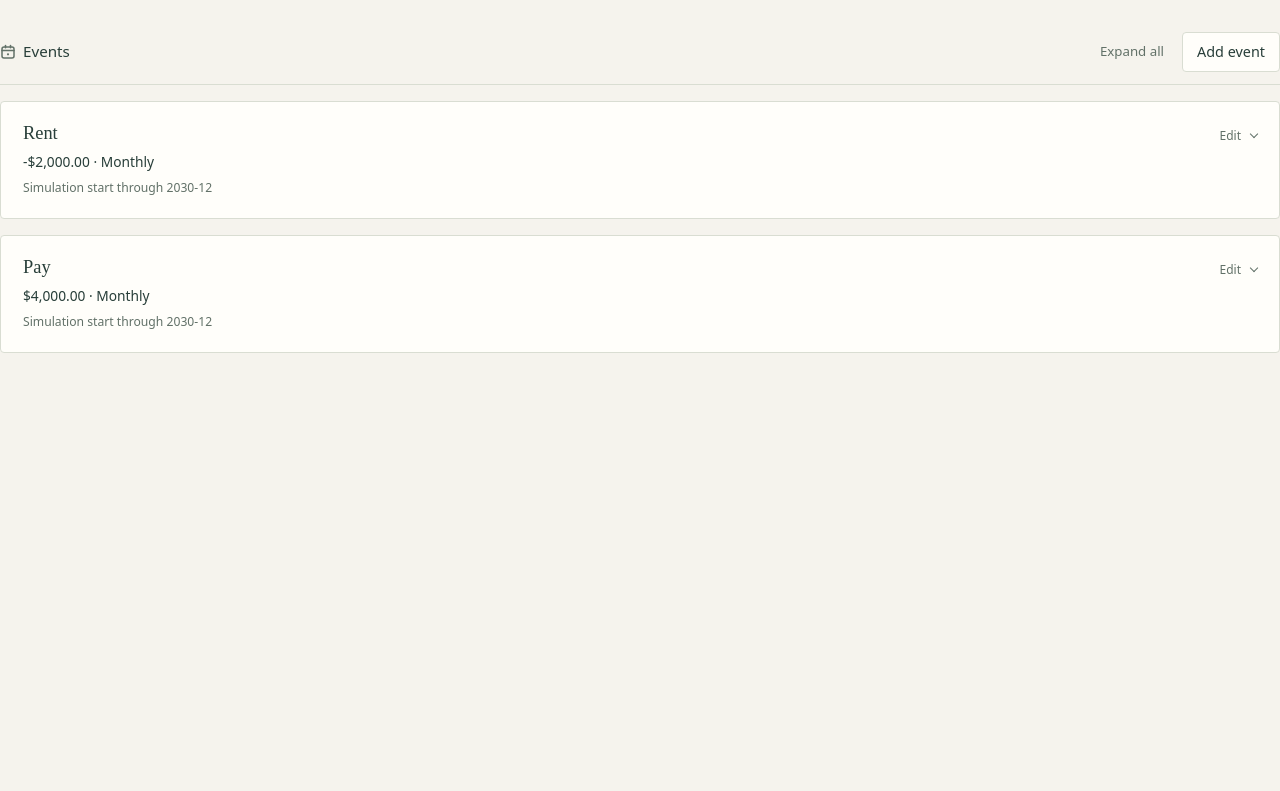
Test: summary-first editors › supports expanding and collapsing the whole list
The width and height of the screenshot is (1280, 791).
Click the button "Expand all" at (1132, 52), box [1090,36,1174,68]
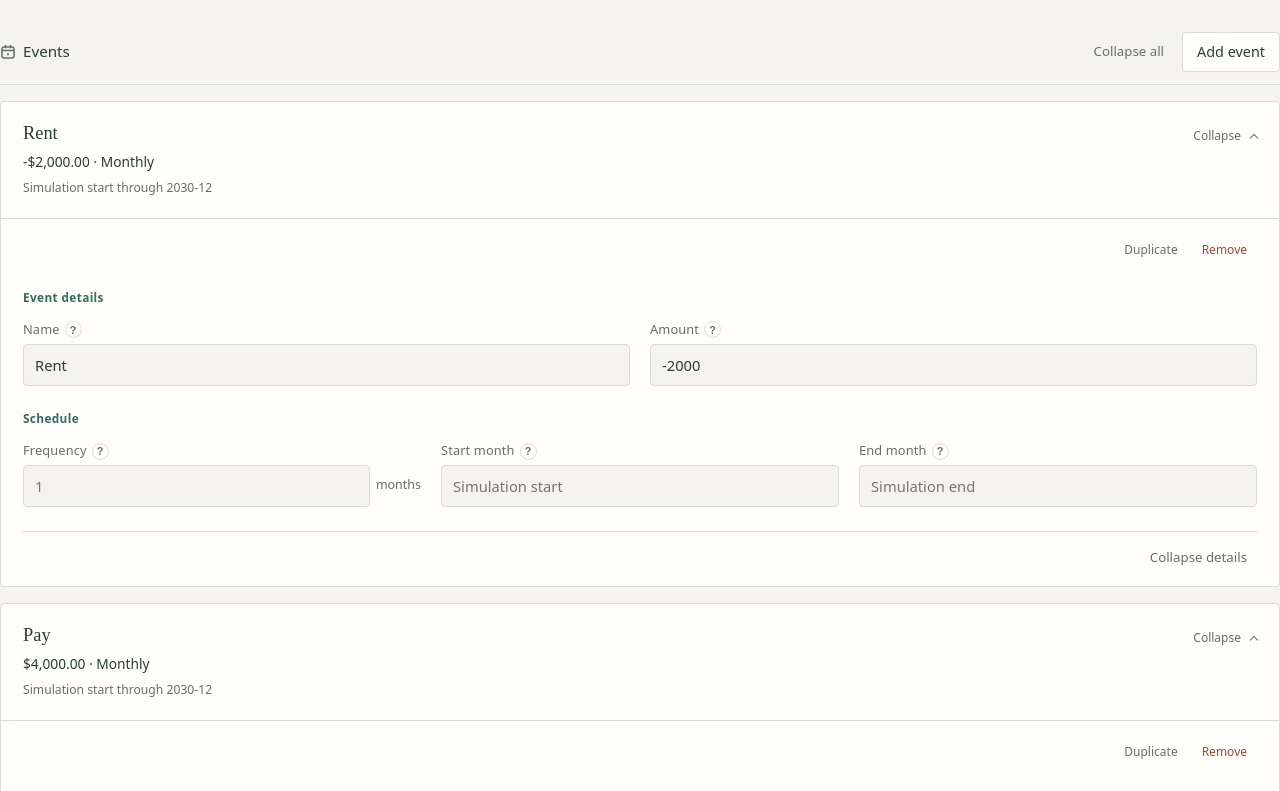
Click the button "Collapse all" at (1129, 52), box [1084,36,1174,68]
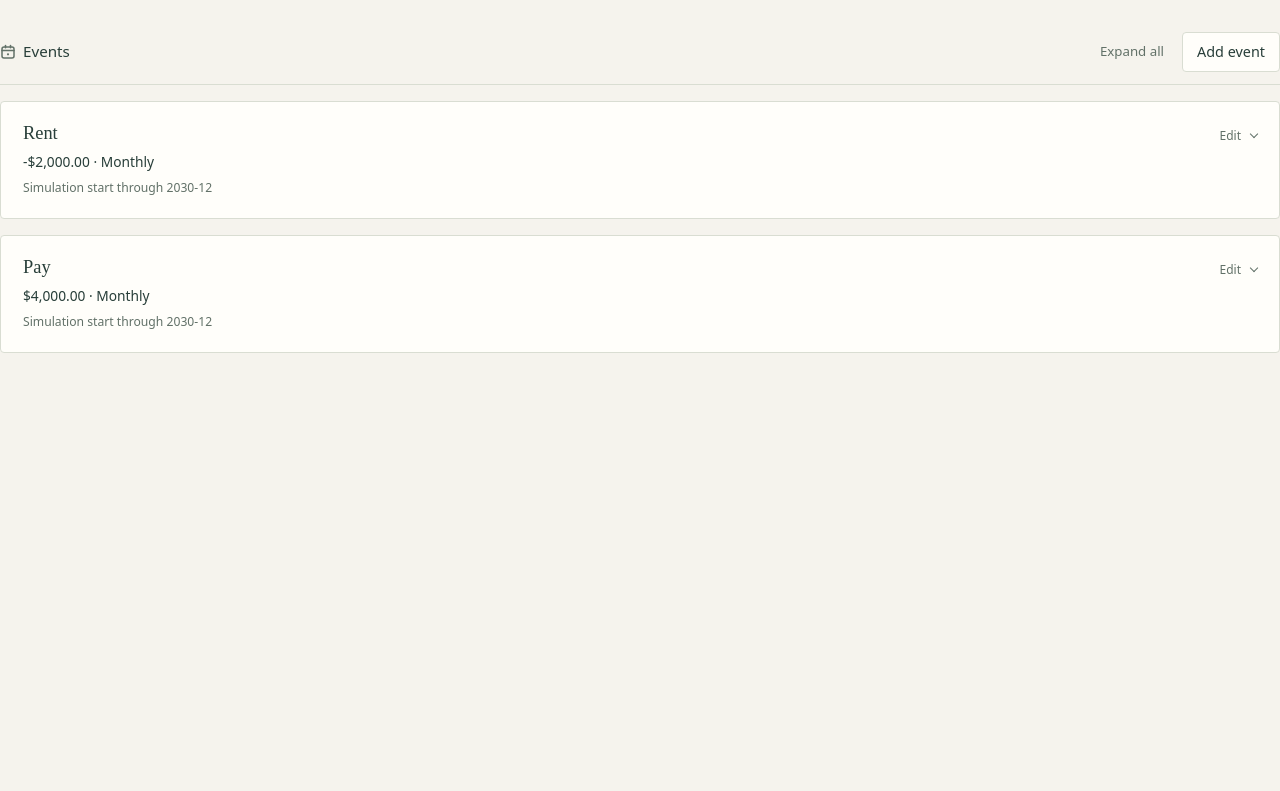
Check: no elements with class "editor-card__body" are shown
